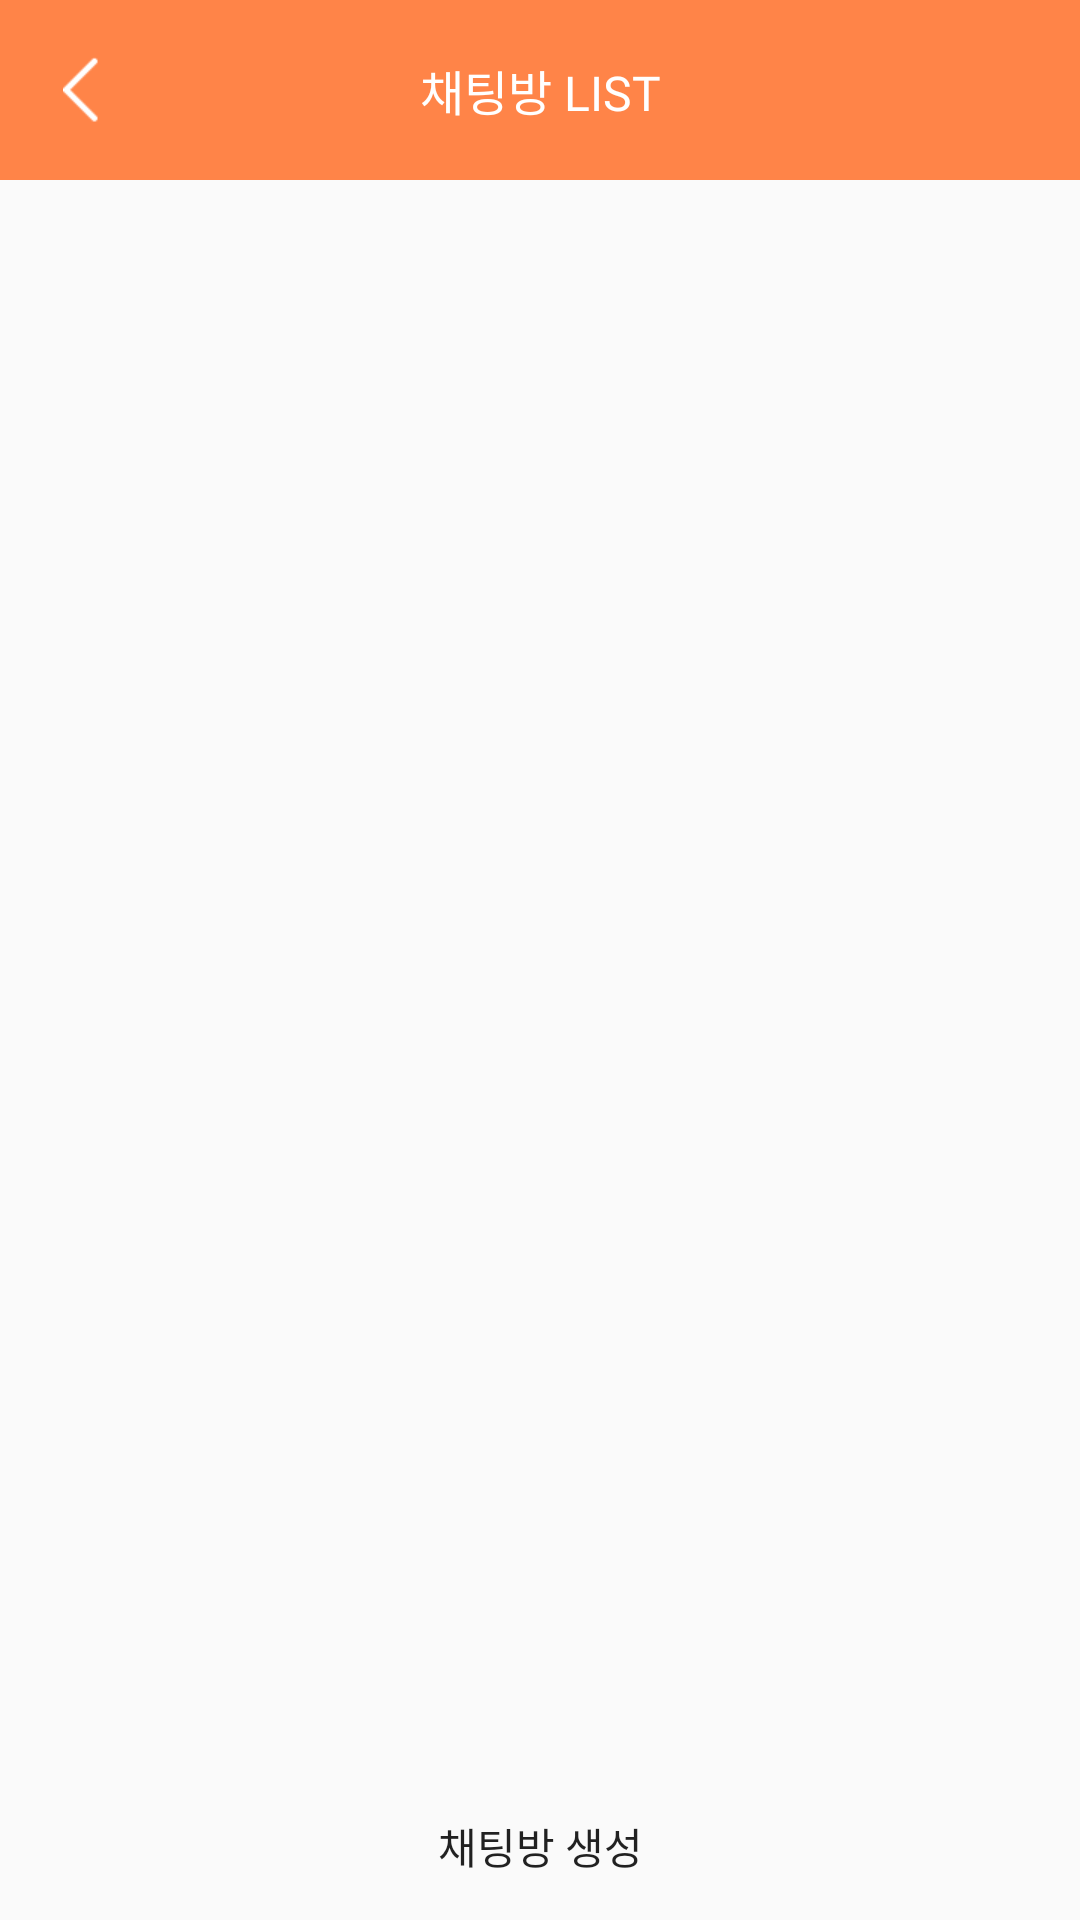

Screen size 1080px x 1920px. Icon name, then its center in pixels as (x,y):
left: (80,90)
